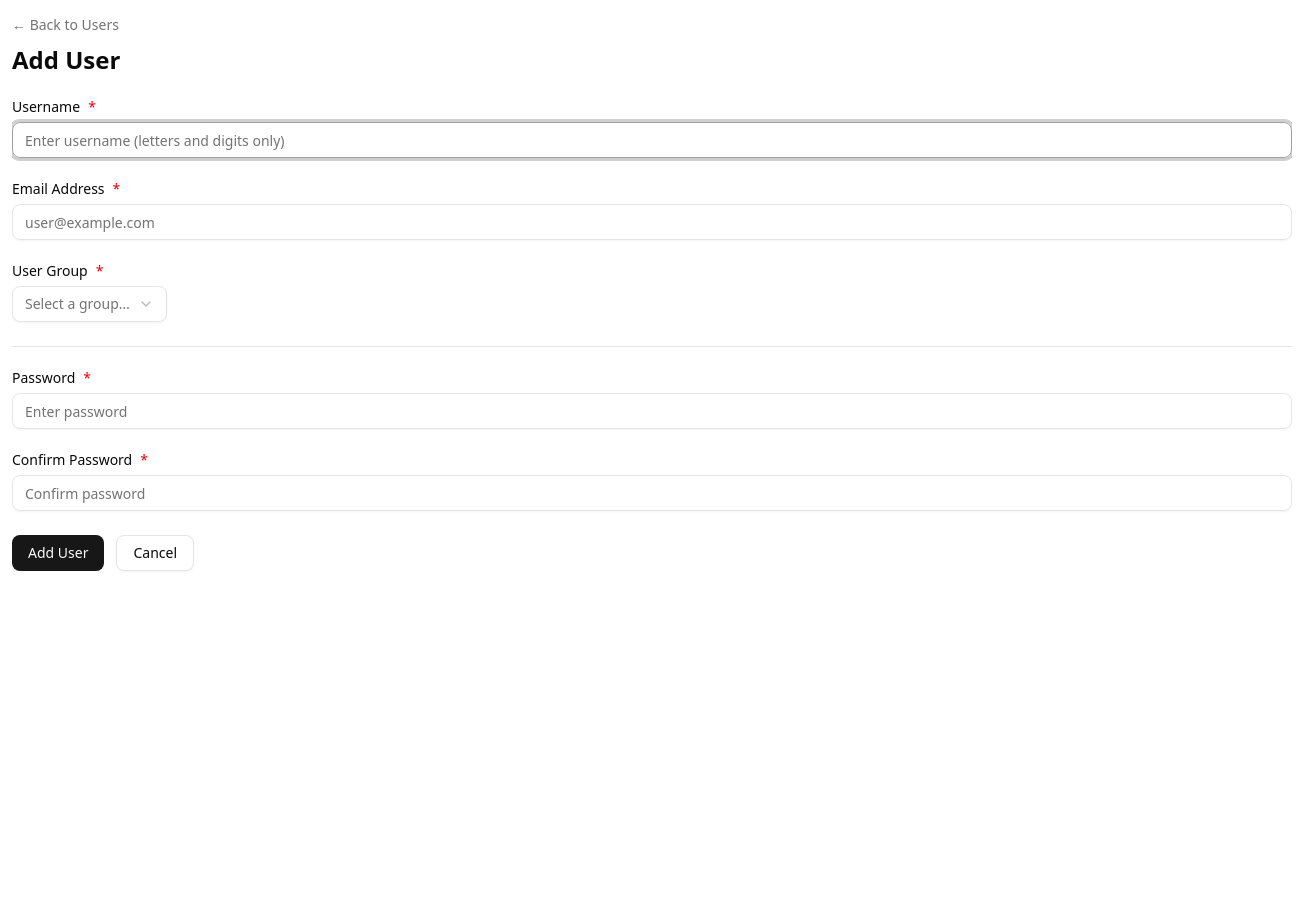
AdminUserFormPage — Add mode › shows validation error for empty username on submit
The image size is (1304, 912).
Click the button "Add User".
click(58, 553)  # box x1=12 y1=535 x2=104 y2=571
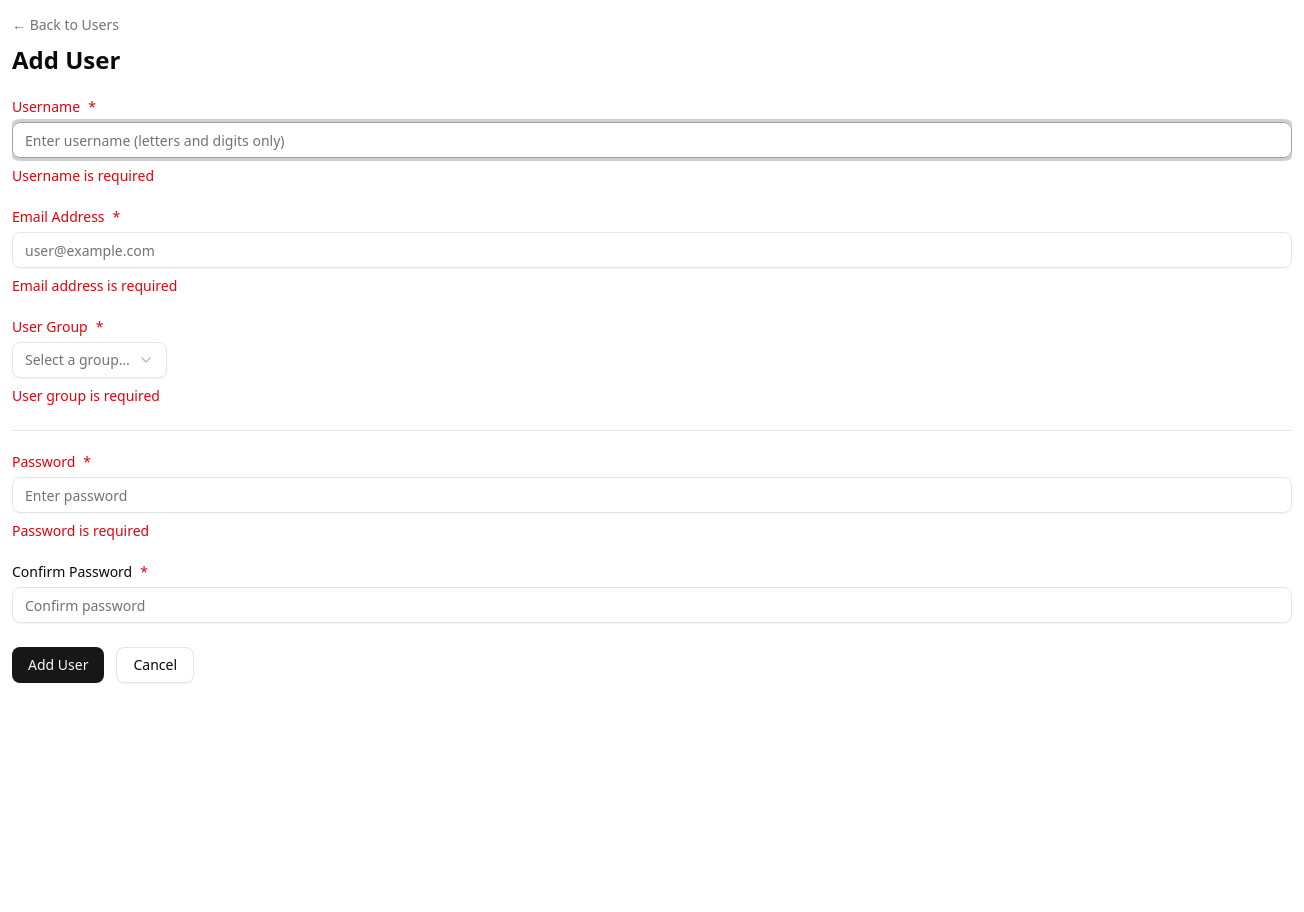
Now the text "Username is required" is shown, box x1=12 y1=166 x2=154 y2=185
